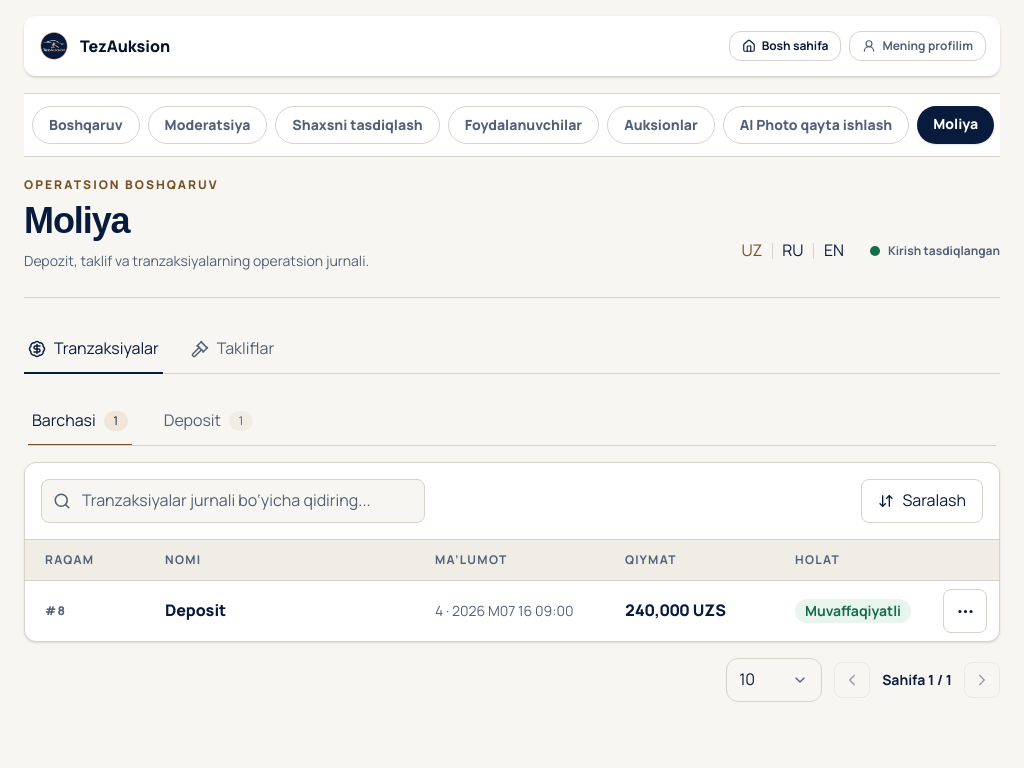
Test: AdminRouter access and production integrity › renders both connected finance ledgers
Expected: the table named "Tranzaksiyalar jurnali" is shown, x1=25 y1=540 x2=999 y2=641
Expected: the text "Deposit" is shown, x1=145 y1=580 x2=415 y2=641
Click the tab "Takliflar" at point(232, 352), box x1=187 y1=330 x2=278 y2=374
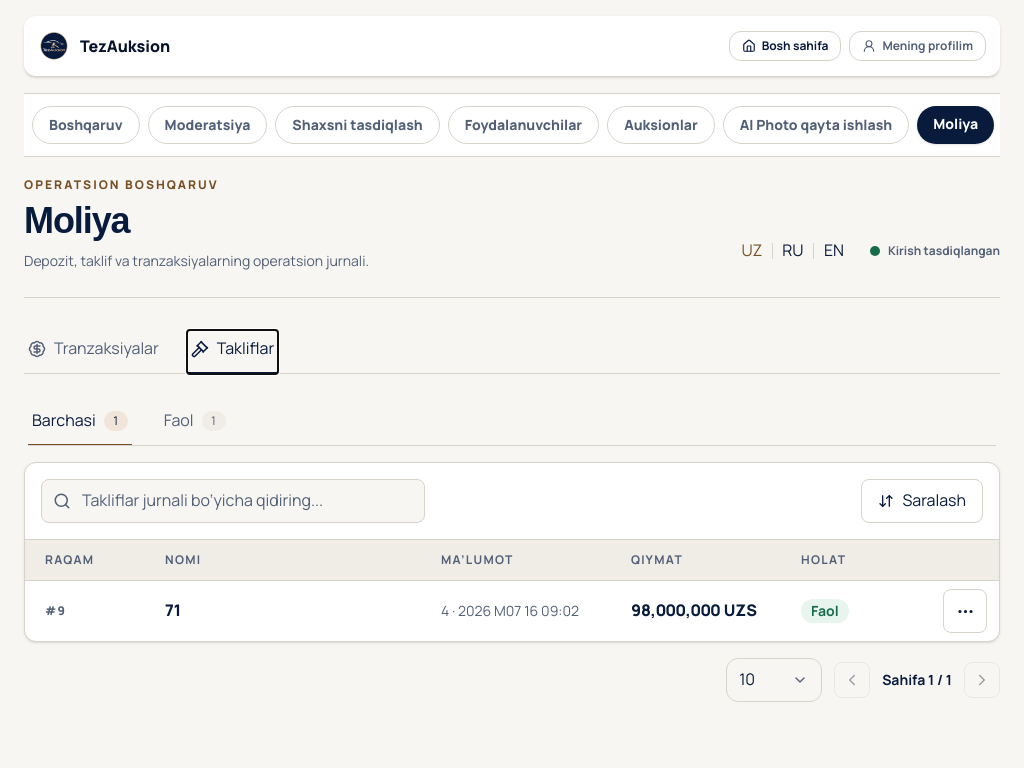
Result: the table named "Takliflar jurnali" is shown at x1=25 y1=540 x2=999 y2=641
Result: the text "98,000,000 UZS" is shown at x1=611 y1=580 x2=781 y2=641
